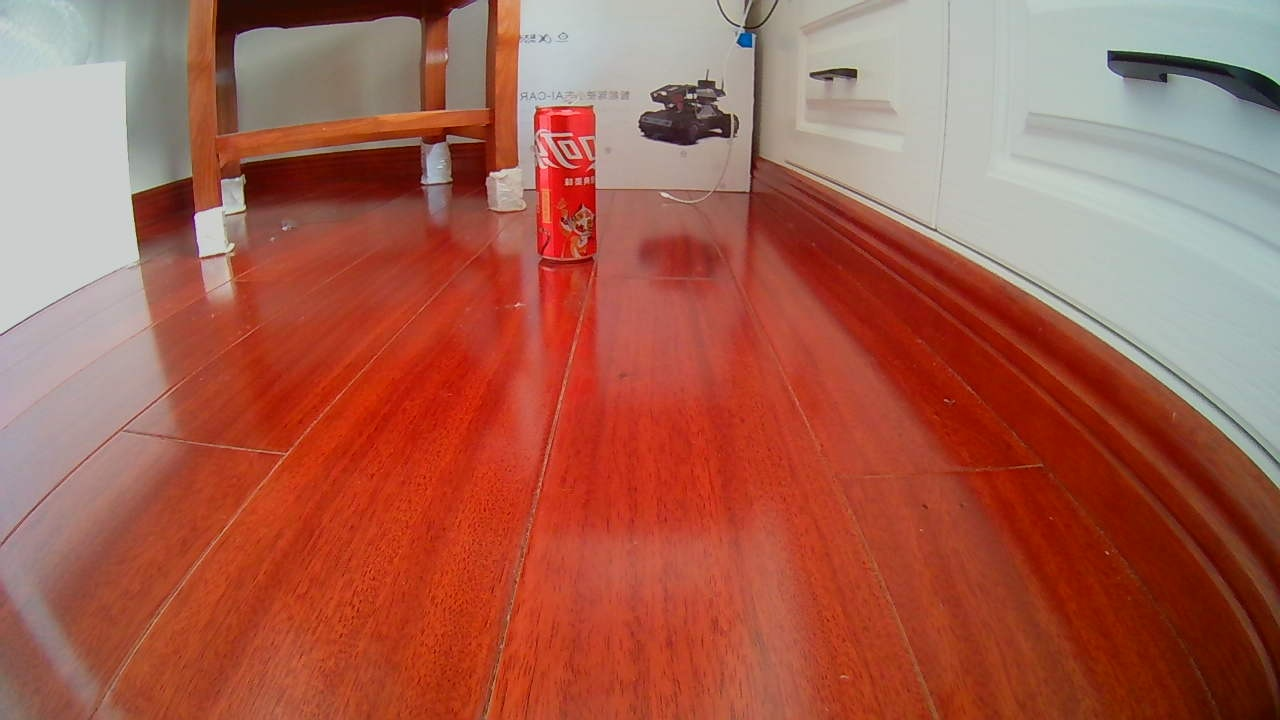cola: (529, 103, 600, 265)
